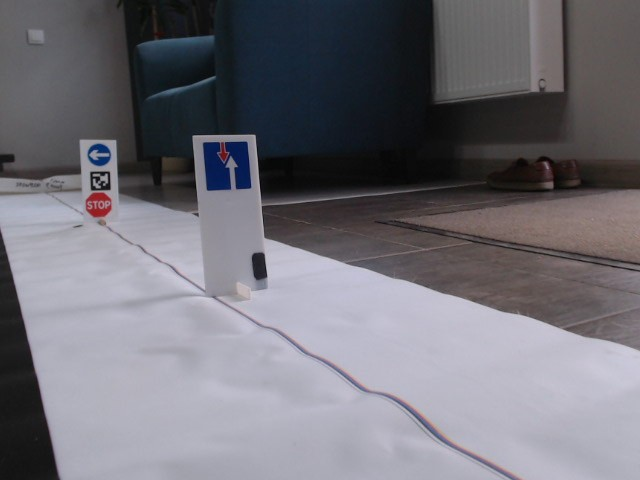Stop: (83, 191, 112, 218)
priority_movement: (202, 141, 252, 192)
